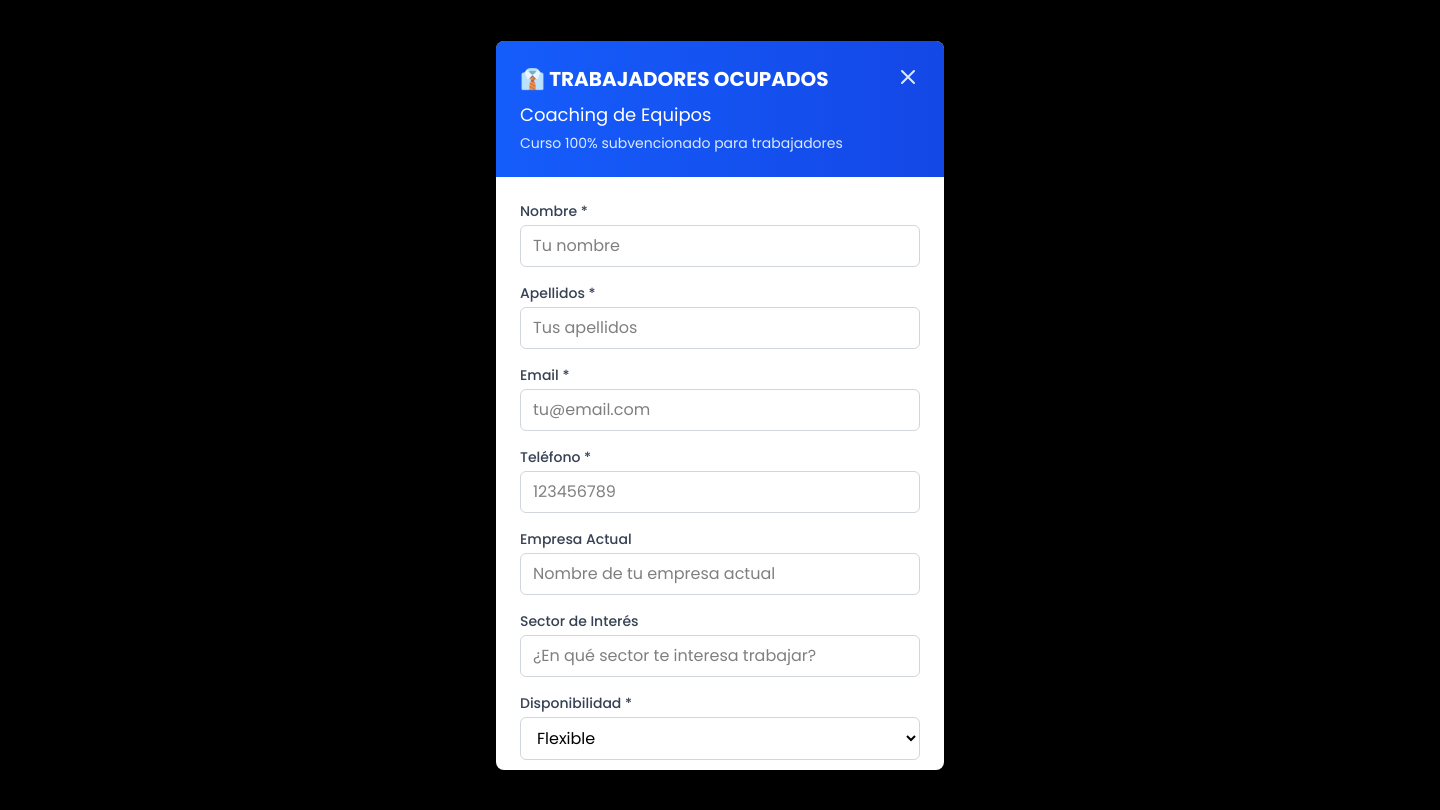
Test: 📧 SISTEMA EMAIL INTEGRATION - CURSOS SEPTIEMBRE › 🔄 ERROR HANDLING Y FALLBACKS › debe manejar error 500 del proxy
The width and height of the screenshot is (1440, 810).
Type "Error" into the field with test id "nombre-input". click: [720, 246]
box: [520,224,920,266]
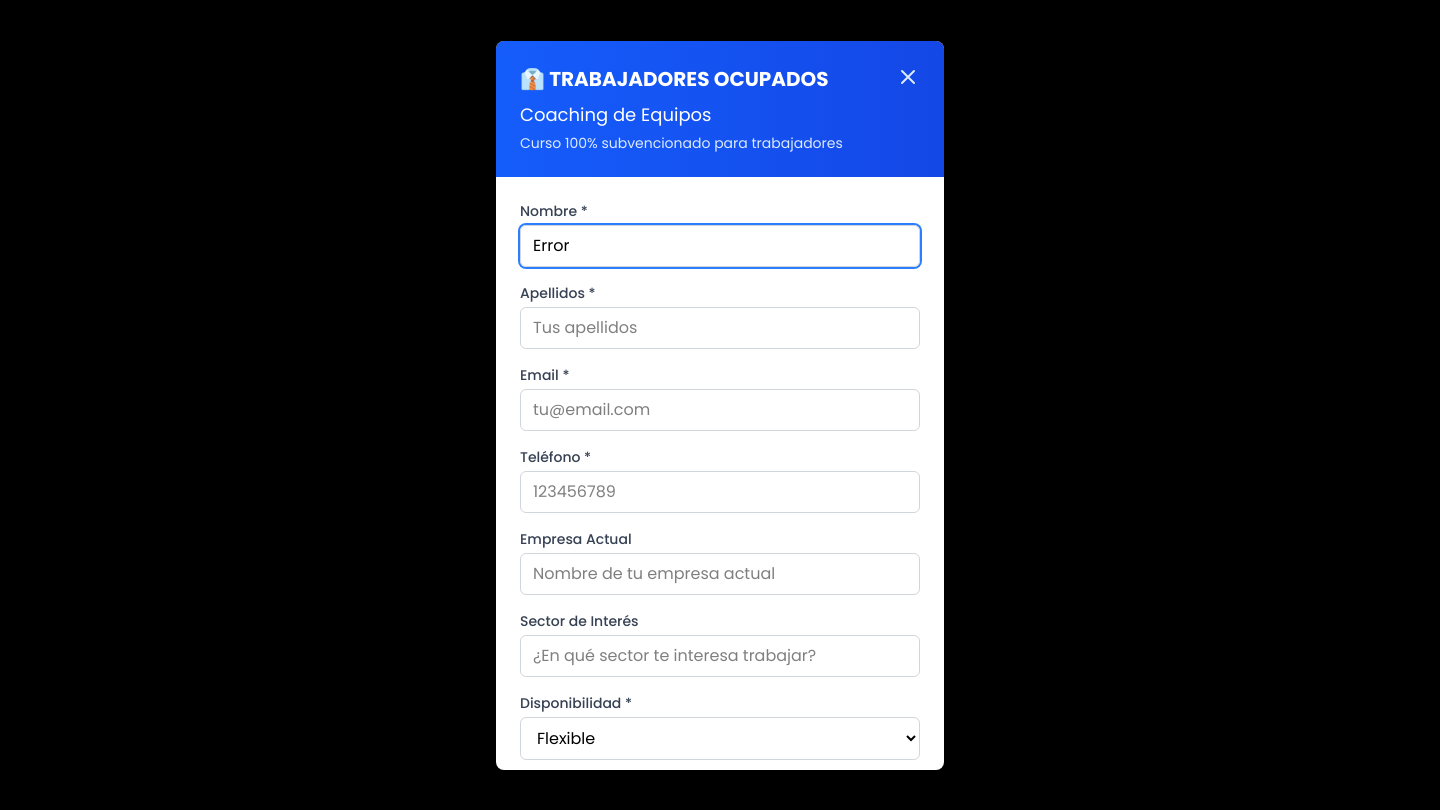
Type "Test" into the field with test id "apellidos-input". click: [720, 328]
box: [520,306,920,348]
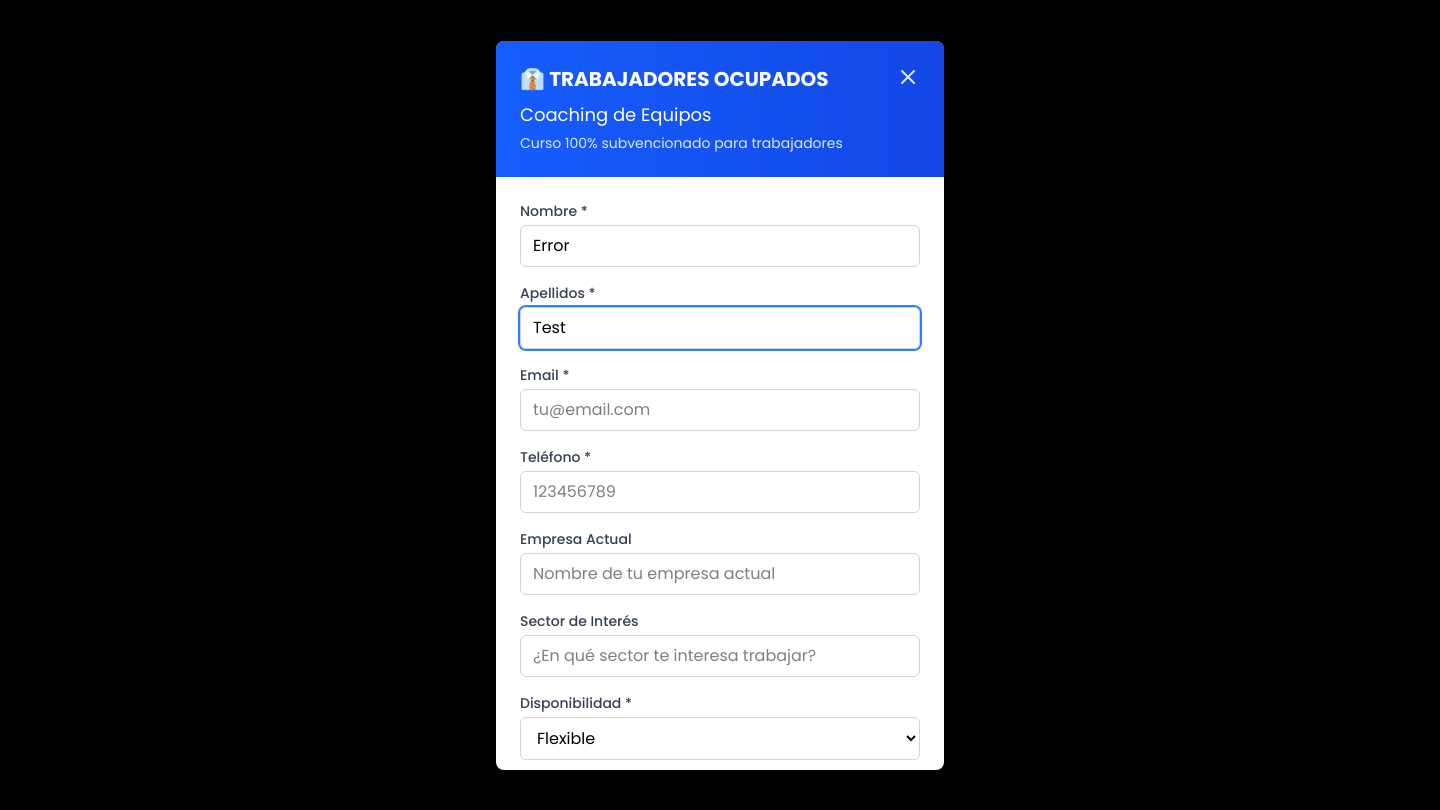
Type "error@example.com" into the field with test id "email-input". click: [720, 410]
box: [520,388,920,430]
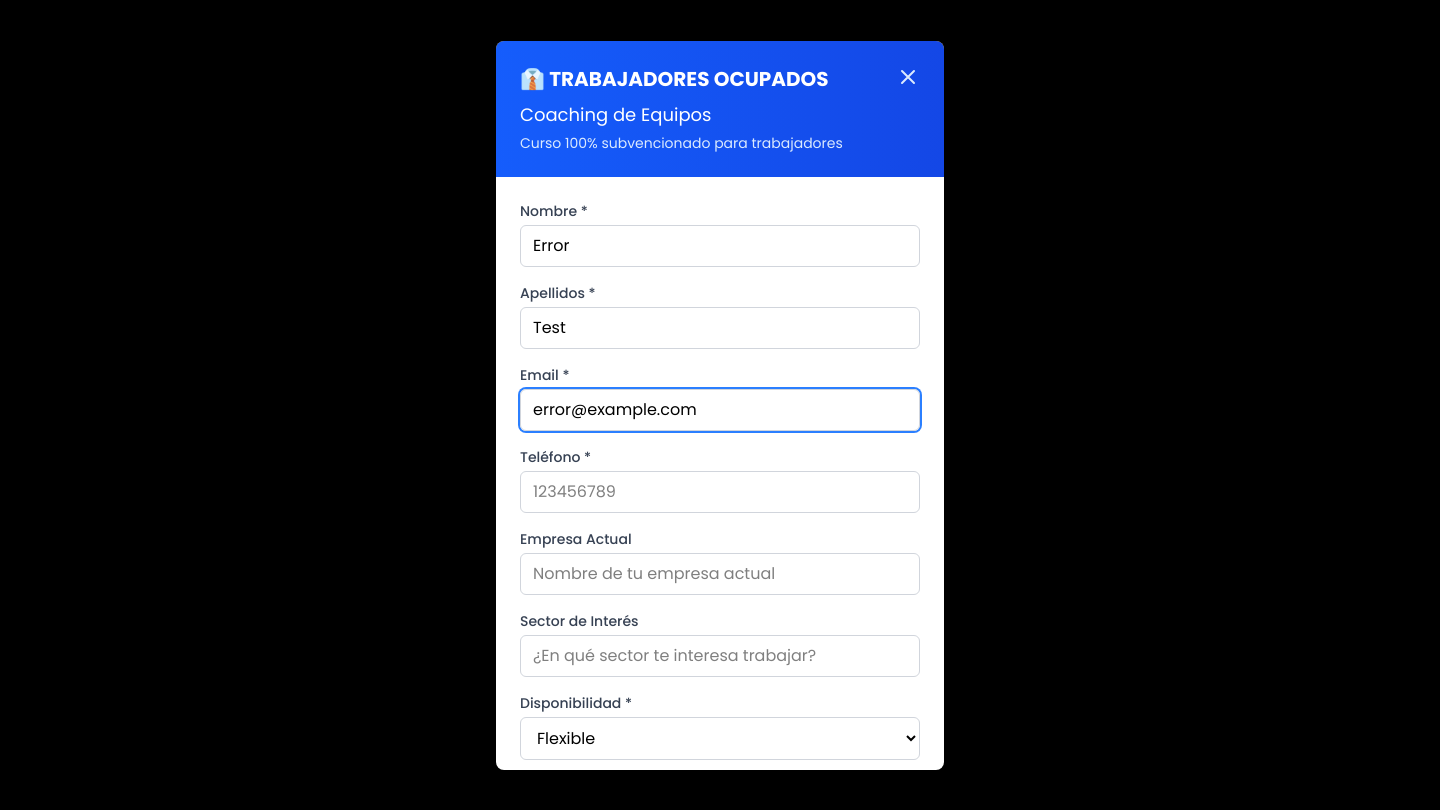
Type "666000000" into the field with test id "telefono-input". click: [720, 492]
box: [520,470,920,512]
(page scrolled)
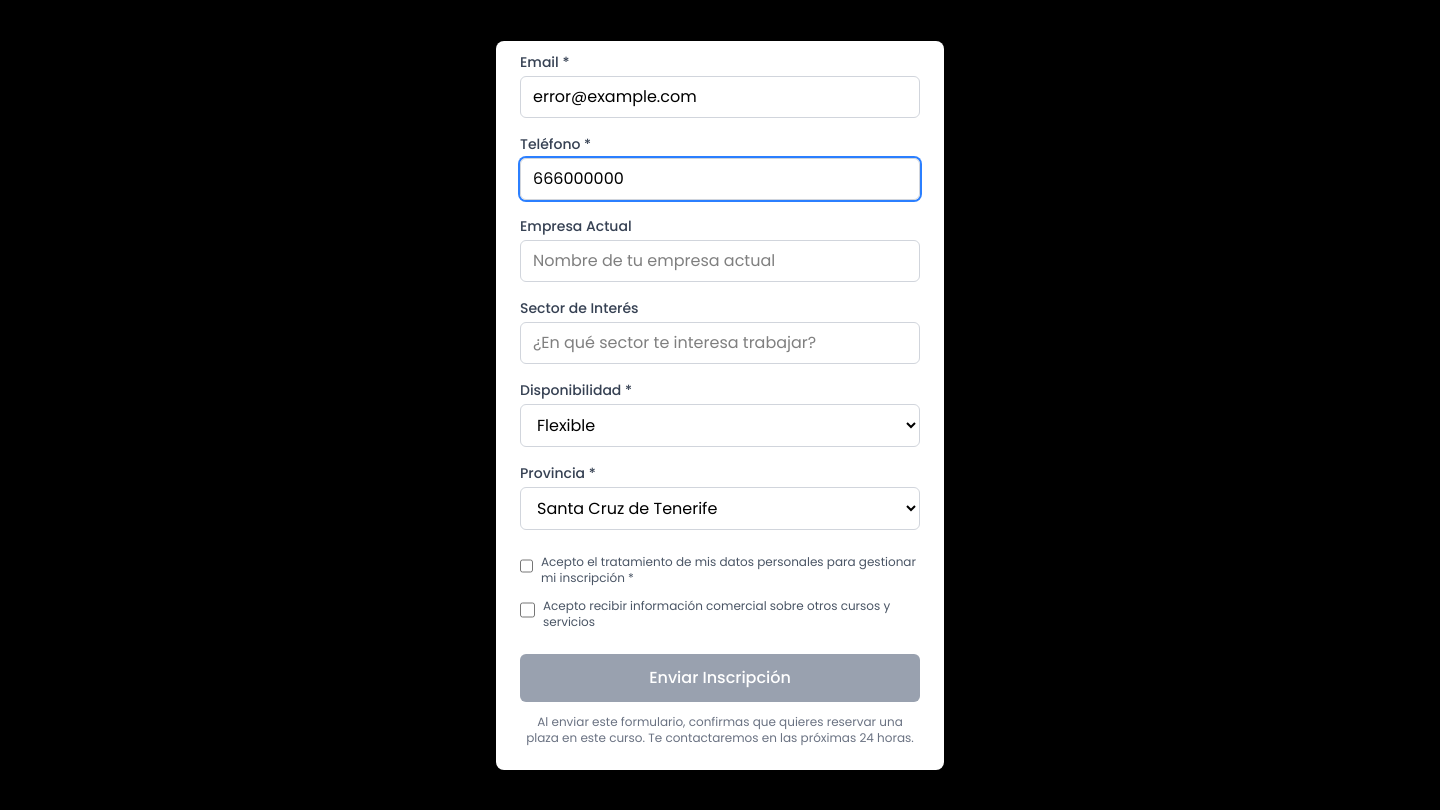
Click the checkbox with test id "consent-checkbox". click: [526, 566]
box: [520,558,533,574]
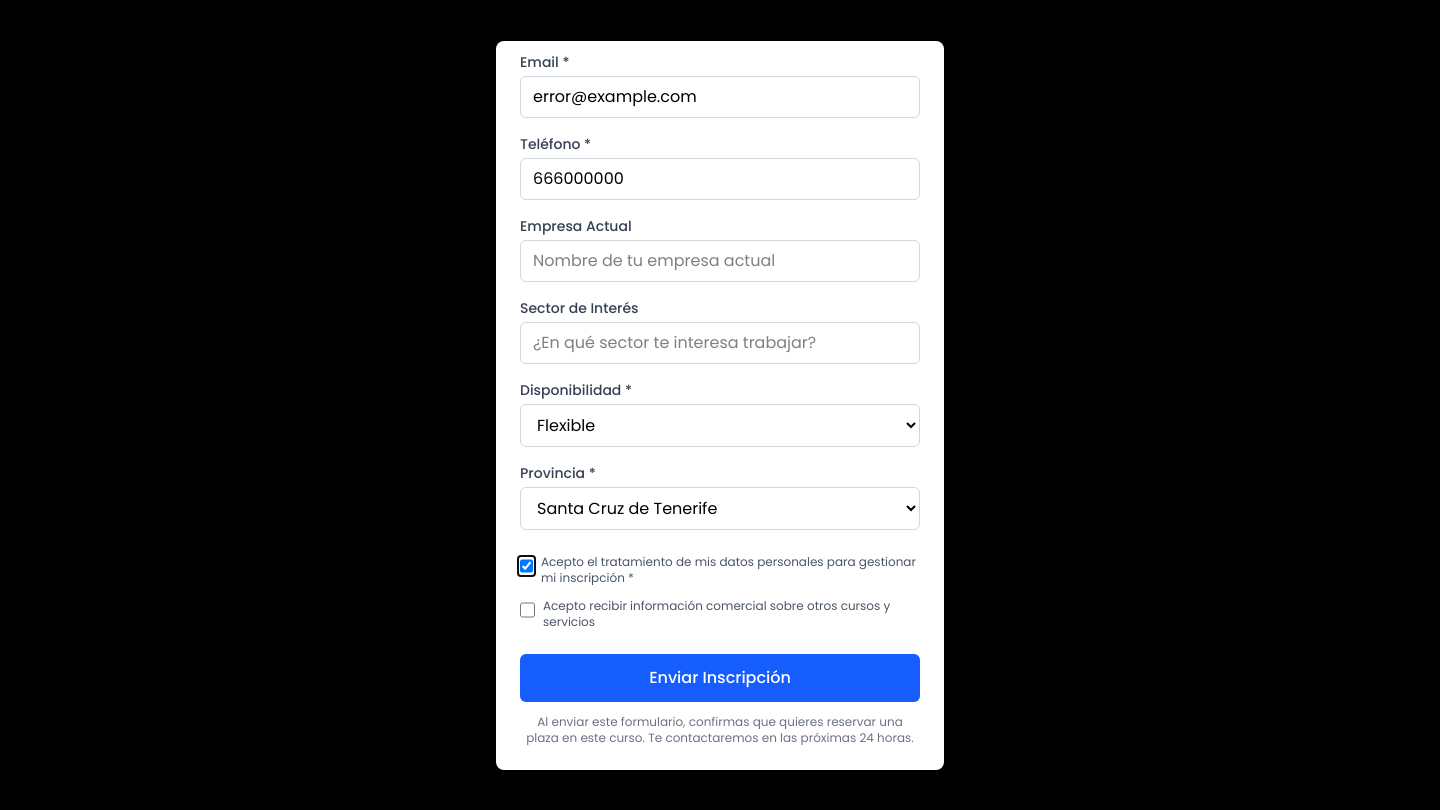
Click the button with test id "submit-button". click: [720, 678]
box: [520,654,920,702]
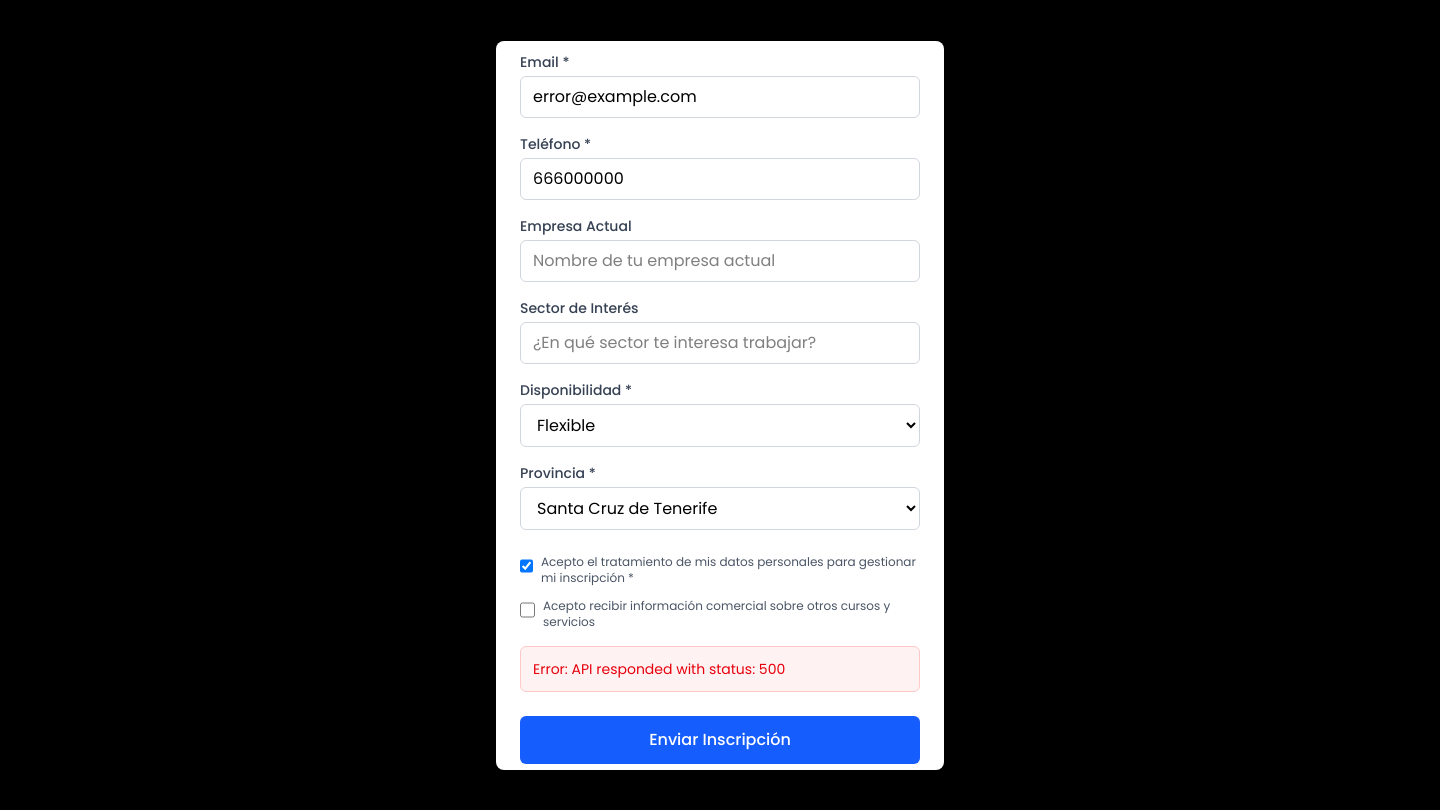
expect the text "Error: API responded with status: 500" is shown: met, box [533,658,785,678]
